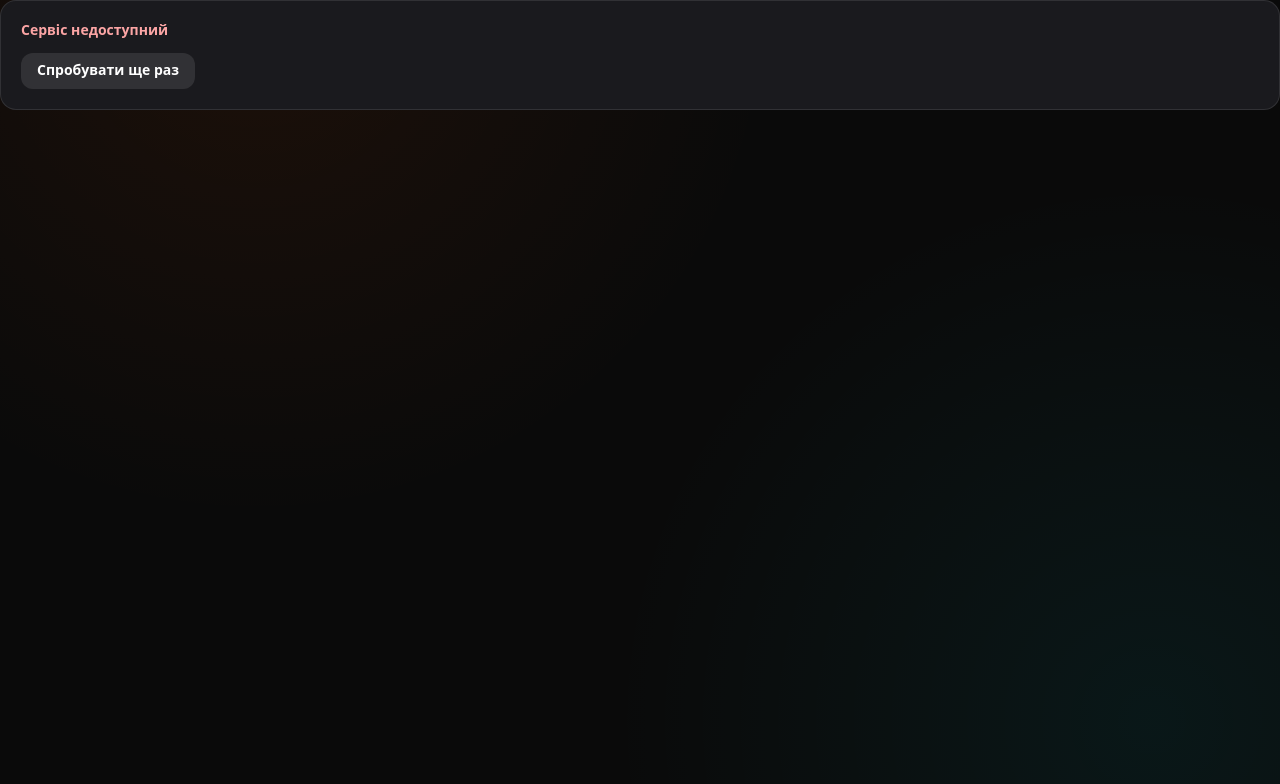
Test: error can be retried and empty statistics use a dash instead of fake percentages
Expected: the message "Сервіс недоступний Спробувати ще раз" is shown, [0,0,1279,110]
Click the button "Спробувати ще раз". click: (108, 71)
box: [21,53,195,89]
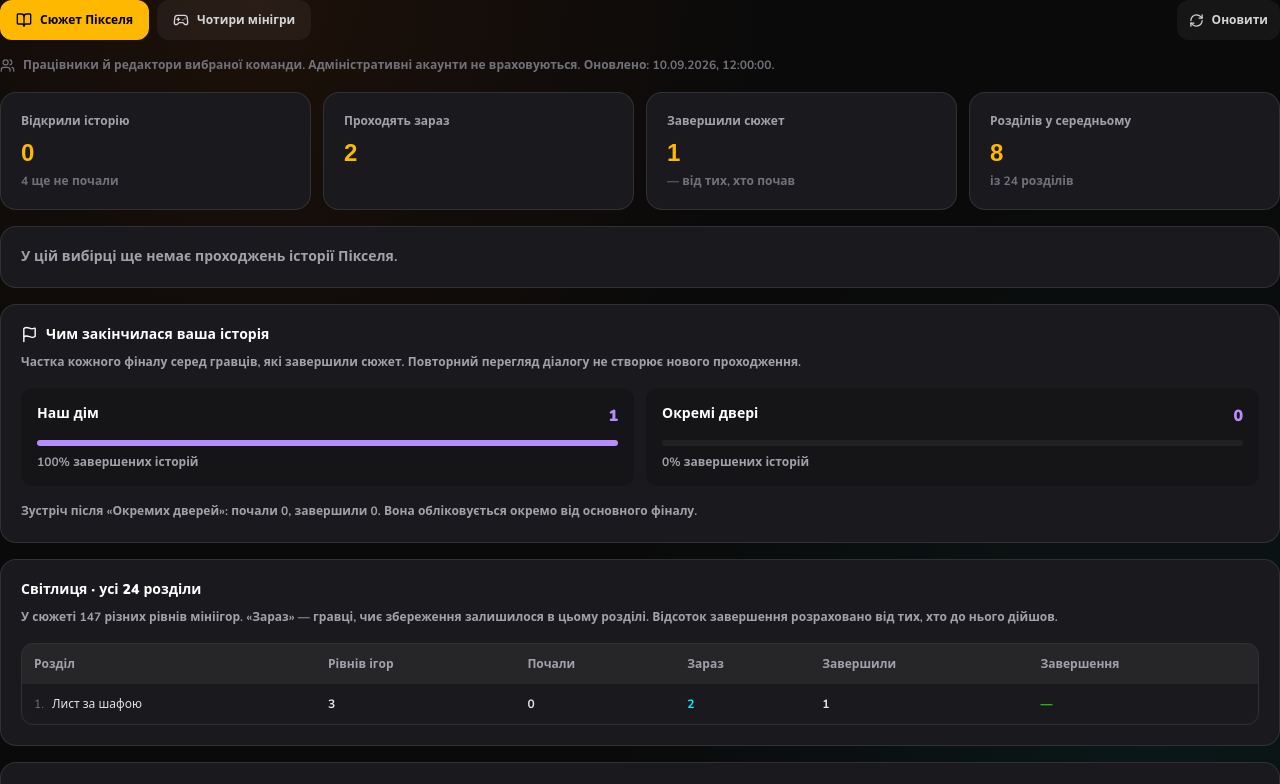
Expected: the text "ще немає проходжень" is shown, [21,246,397,266]
Expected: the table shows "—", [1040,696,1052,712]
